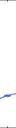line: (0, 88, 16, 101)
